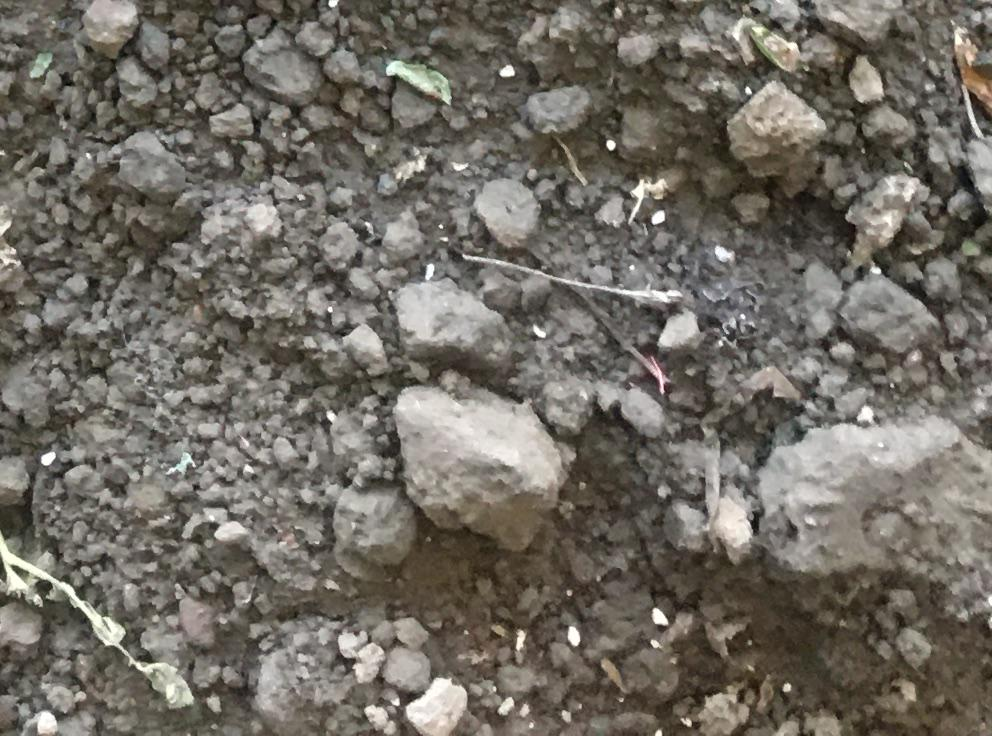block: (755, 416, 992, 613), (384, 383, 557, 552), (725, 82, 827, 207), (383, 278, 510, 369)
